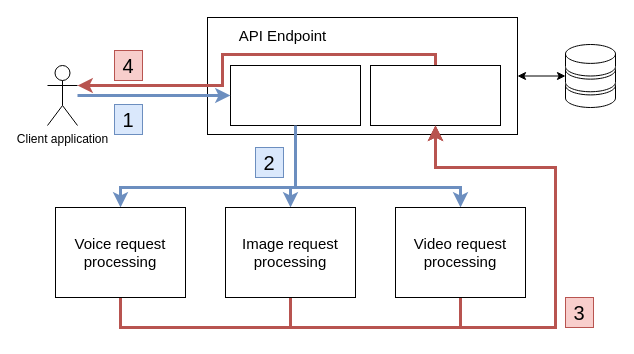
Some shapes in this 634 by 354 pixel diagram are drawn without their labels. The shapes that lost their labels are listed below. From the top down, each one's box as (x1, y1, x2, y2) in pixels, then its label:
(230, 64, 360, 126): Request receiving
(370, 64, 500, 126): Results collecting
(564, 43, 616, 108): Database
